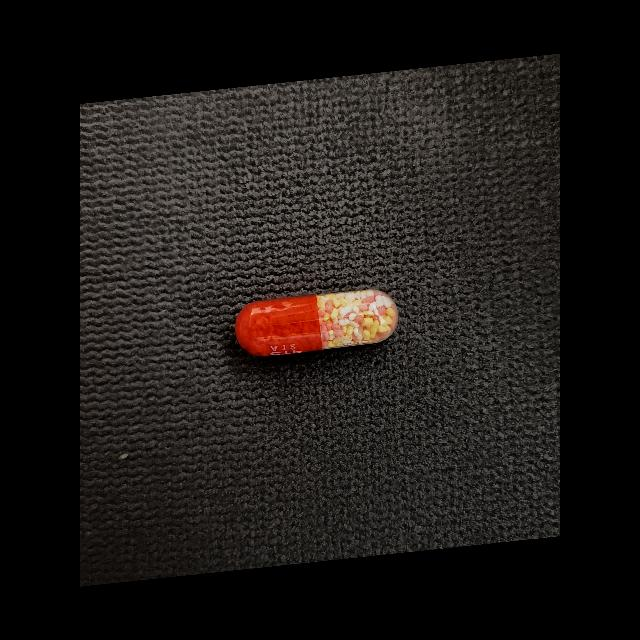Intact Capsule: (235, 289, 398, 356)
